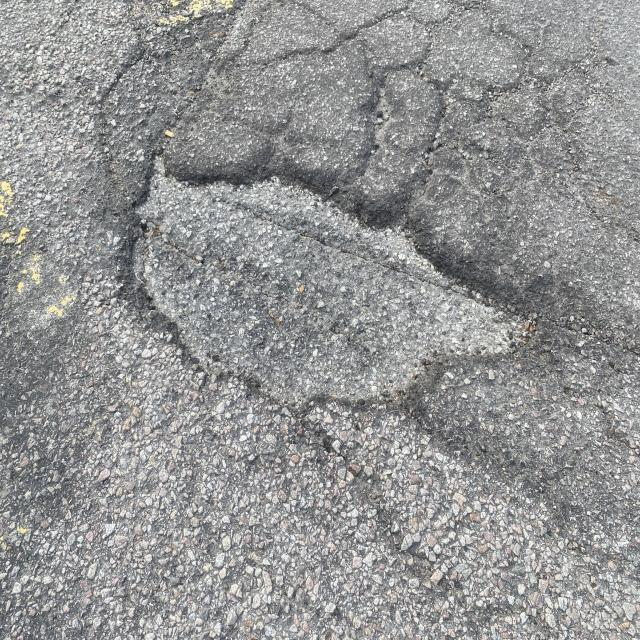Pothole: (91, 108, 565, 476)
